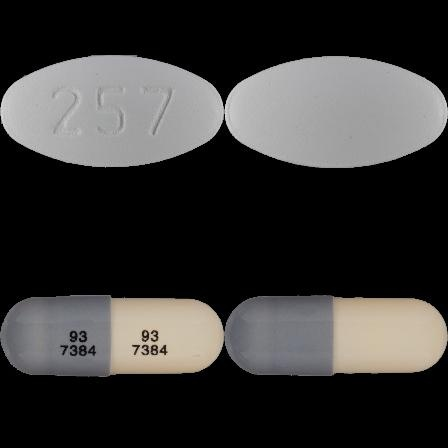58118-0085: (0, 0, 224, 224)
